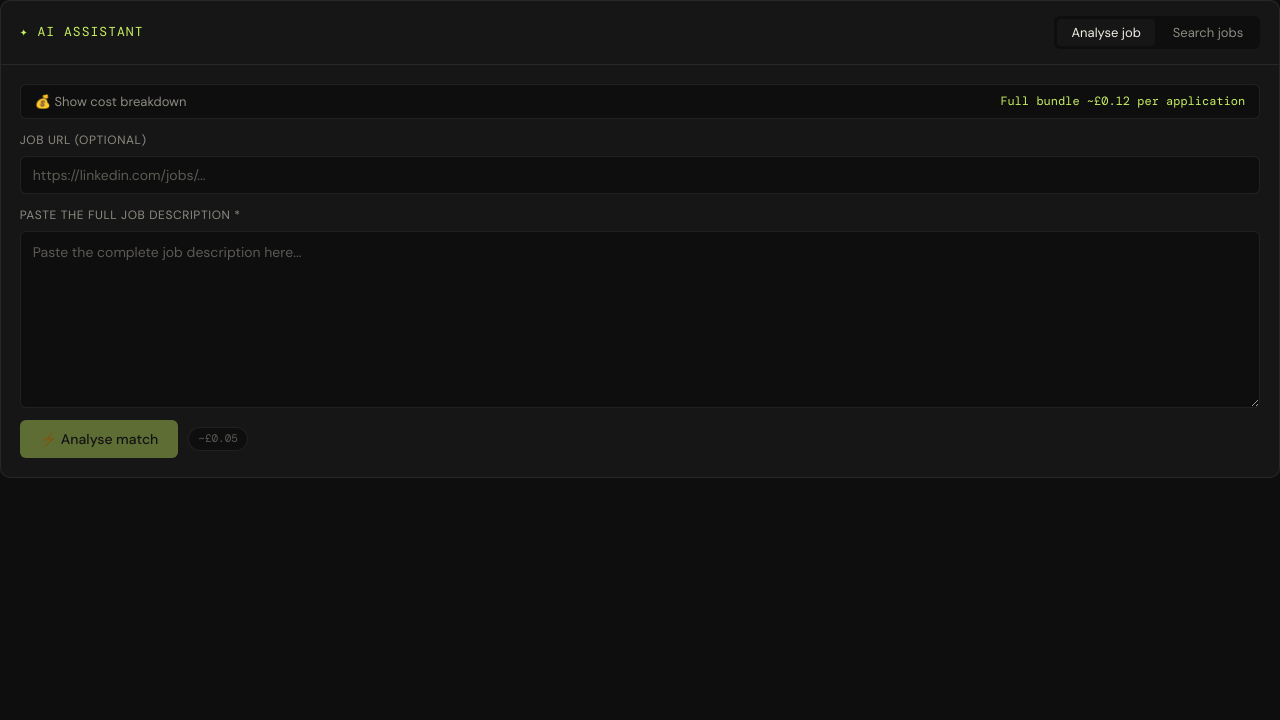
Scenario: AIPanel › search jobs › searches for jobs and displays the results
Click the button "Search jobs".
click(1208, 32)  # box [1159,19,1257,46]
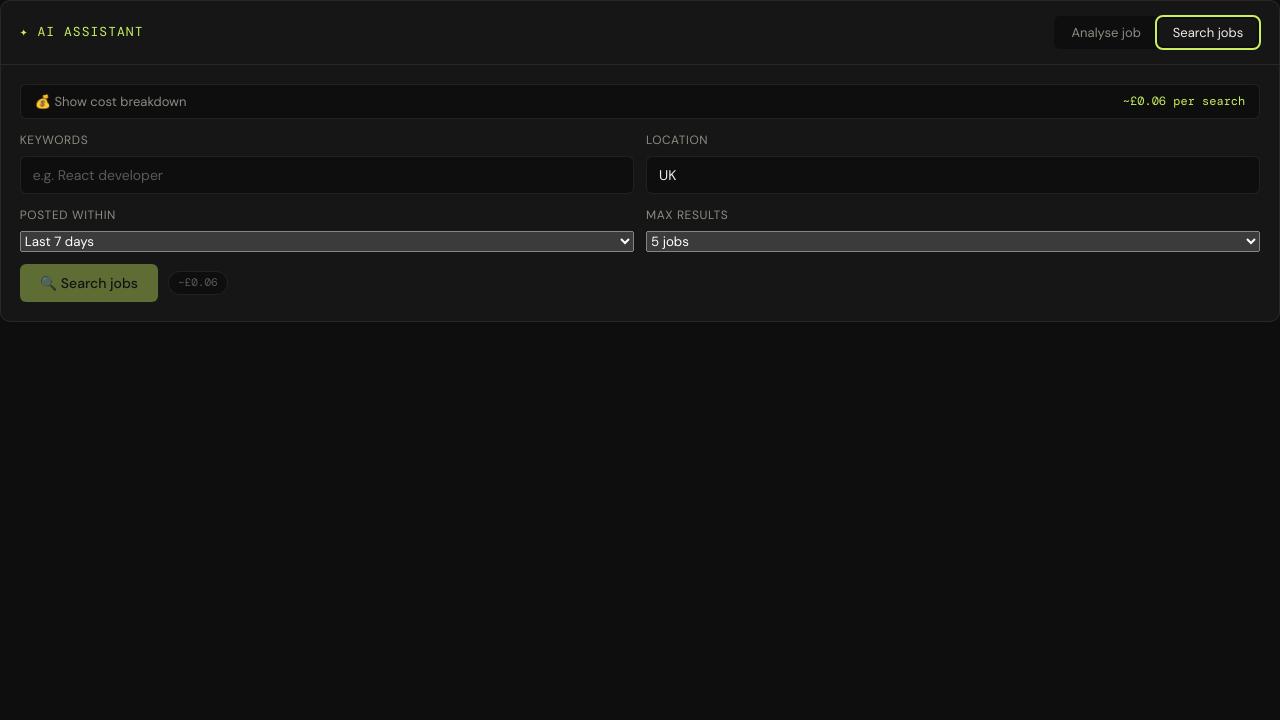
Type "React developer" into the field with placeholder "e.g. React developer".
click(327, 175); type("React developer")  # box [20,156,634,194]
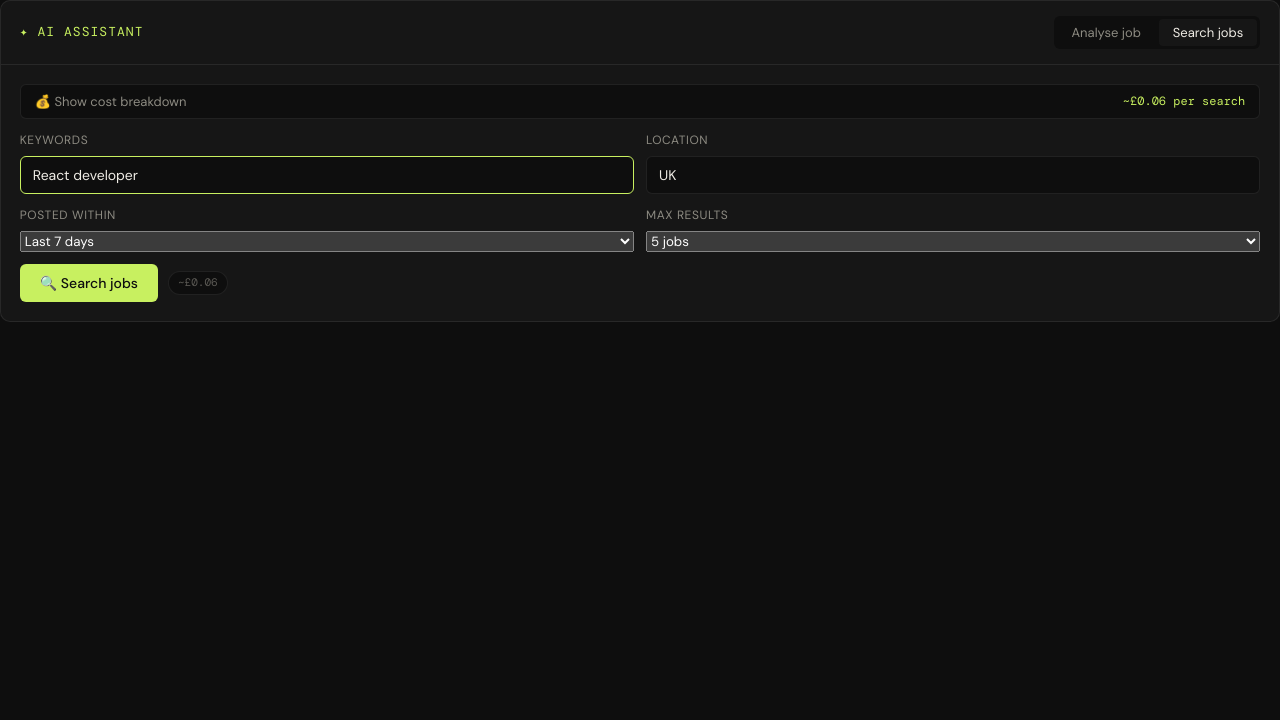
Click the button "🔍 Search jobs".
click(89, 283)  # box [20,264,158,302]
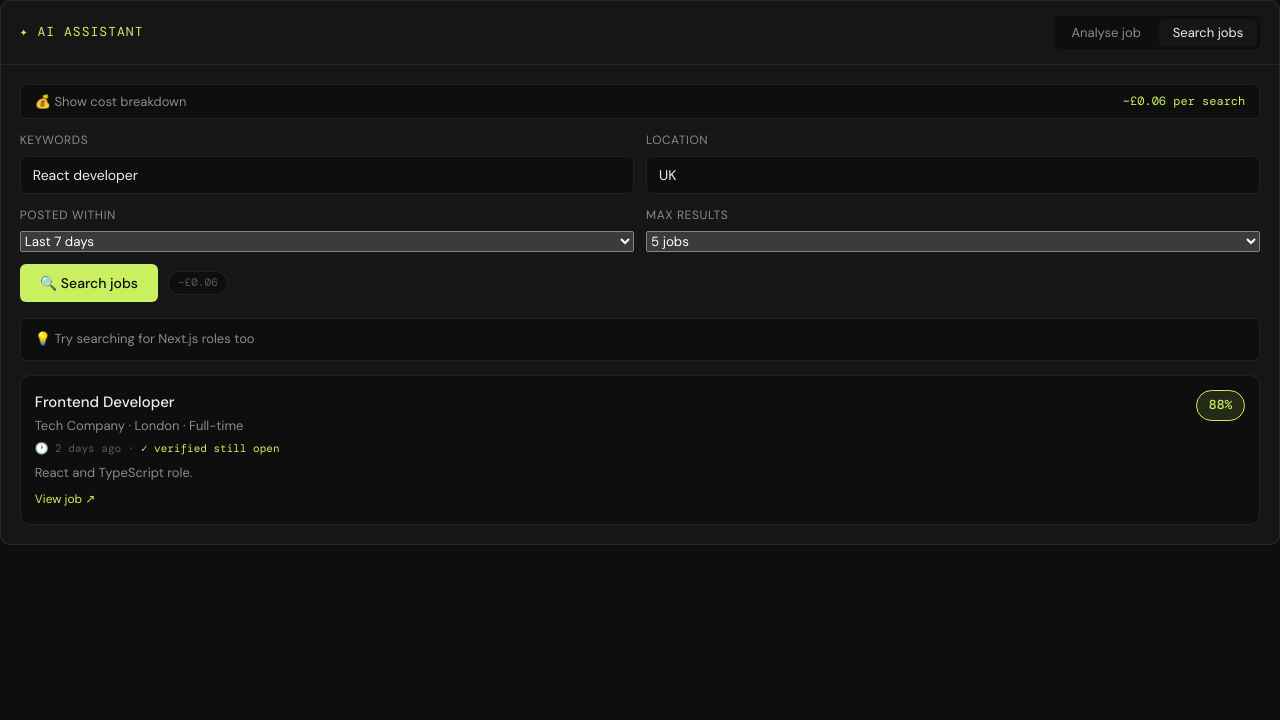
Expected: the text "Frontend Developer" is shown, [35,392,175,412]
Expected: the text "Tech Company · London · Full-time" is shown, [35,416,280,437]
Expected: the text "88%" is shown, [1196,390,1245,421]
